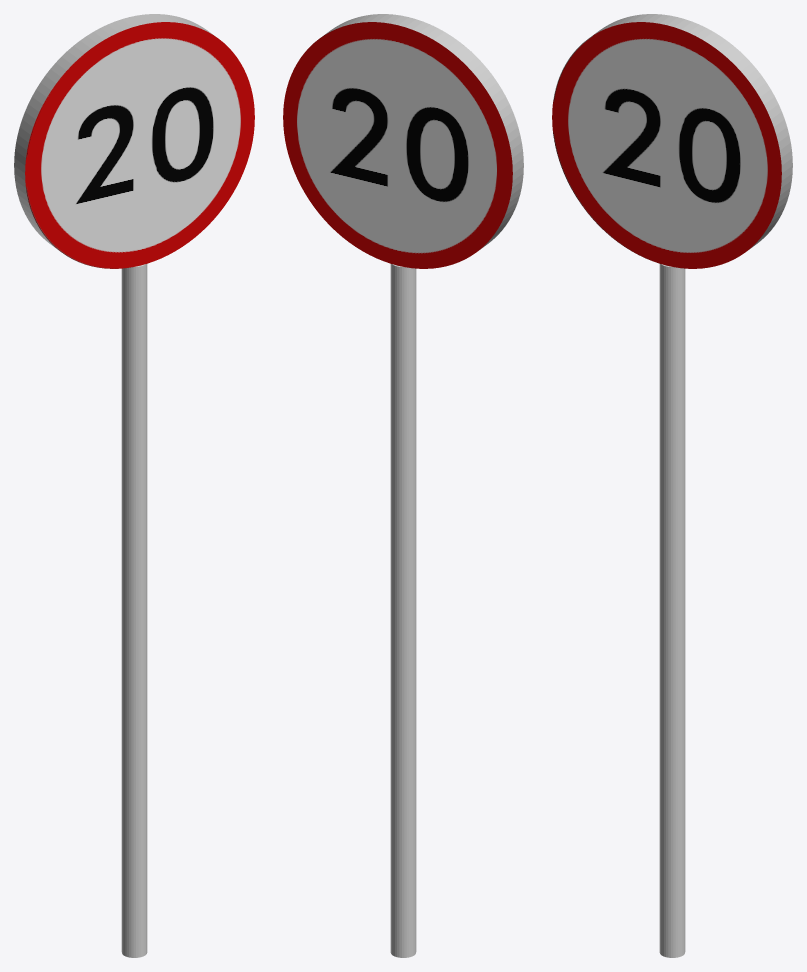
The model's file is speed_limit_20.dae.
3 renders of one model, left to right at view 1: azimuth 30°, elevation 25°; view 2: azimuth 150°, elevation 25°; view 3: azimuth 330°, elevation 25°, orthographic.
Visible parts, largest first — view 1: Speed_Limit_20, Speed_Limit_20_Pole; view 2: Speed_Limit_20, Speed_Limit_20_Pole; view 3: Speed_Limit_20, Speed_Limit_20_Pole.
Part boxes in pixels (left/top/right/bottom): Speed_Limit_20: left=14, top=14, right=254, bottom=268; Speed_Limit_20_Pole: left=121, top=264, right=147, bottom=957; Speed_Limit_20: left=283, top=14, right=523, bottom=268; Speed_Limit_20_Pole: left=390, top=264, right=416, bottom=957; Speed_Limit_20: left=552, top=14, right=792, bottom=268; Speed_Limit_20_Pole: left=659, top=264, right=685, bottom=957.
Bounding box in the file's own units: 0.8353 × 0.08 × 3.24.
Materials: 1 (1 with a texture image).
